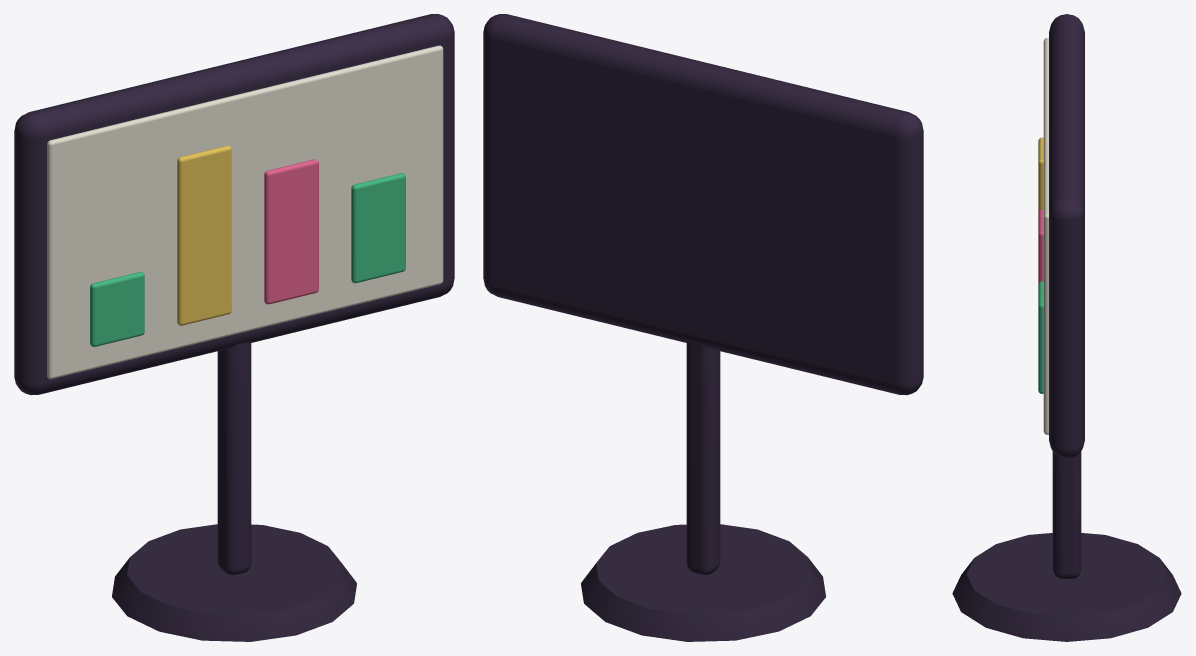
Rendered from monitor.glb.
3 renders of one model, left to right at view 1: azimuth 30°, elevation 25°; view 2: azimuth 150°, elevation 25°; view 3: azimuth 270°, elevation 25°, orthographic. The views are drawn at different scales.
Parts seen in each view (by area): view 1: monitor; view 2: monitor; view 3: monitor.
Boxes of the visible parts, left/top/right/bottom form: monitor: left=14, top=14, right=454, bottom=641; monitor: left=483, top=14, right=923, bottom=641; monitor: left=952, top=14, right=1181, bottom=641.
Bounding box in the file's own units: 1.3 × 1.5 × 0.64.
